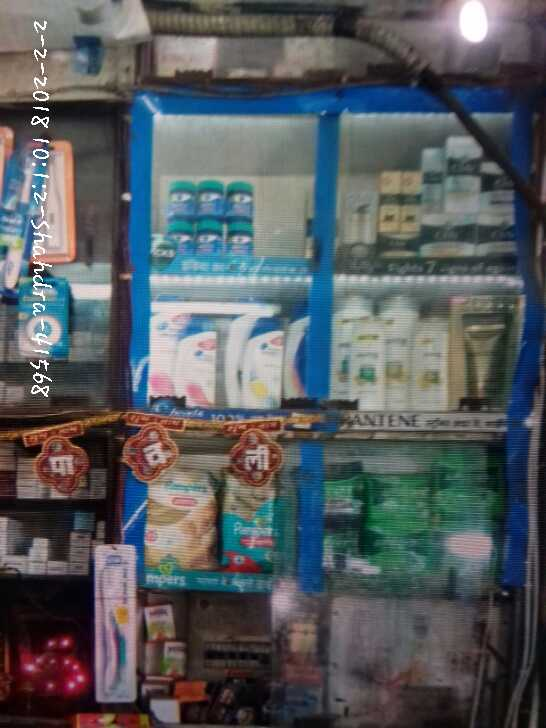oralcare: (91, 542, 141, 704), (1, 144, 44, 296)
vicks: (168, 180, 255, 261)
